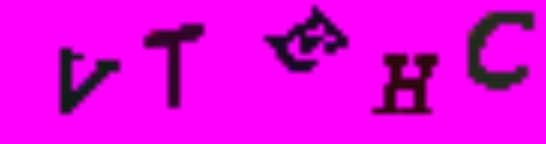C: (463, 3, 546, 97)
E: (262, 3, 353, 79)
H: (367, 51, 447, 119)
T: (138, 20, 209, 109)
V: (47, 41, 124, 117)
